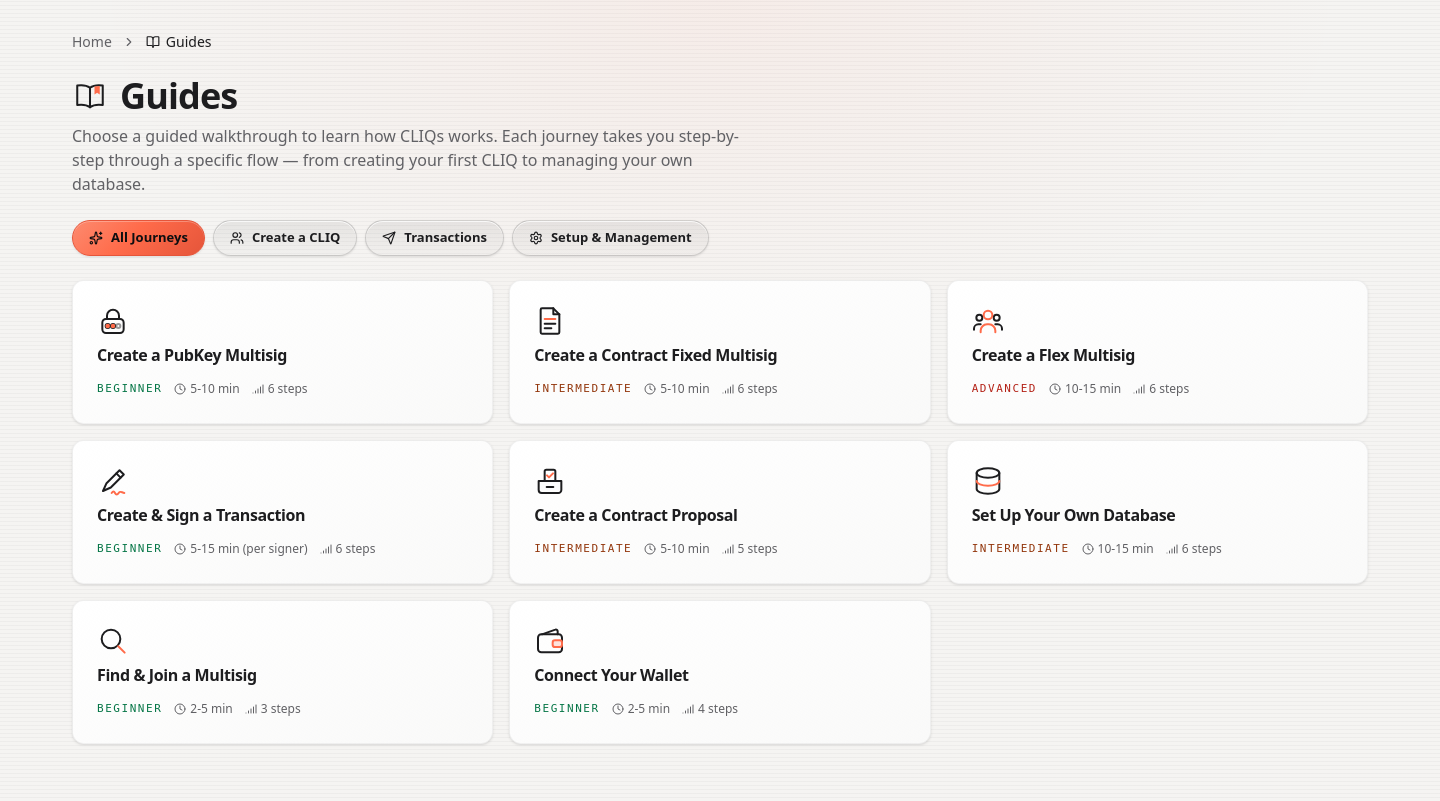
Scenario: Guides difficulty labels are status tags: P2 › in the walkthrough header
Click the button "Create a PubKey Multisig Beginner 5-10 min 6 steps" at (283, 352), box [72,280,493,424]
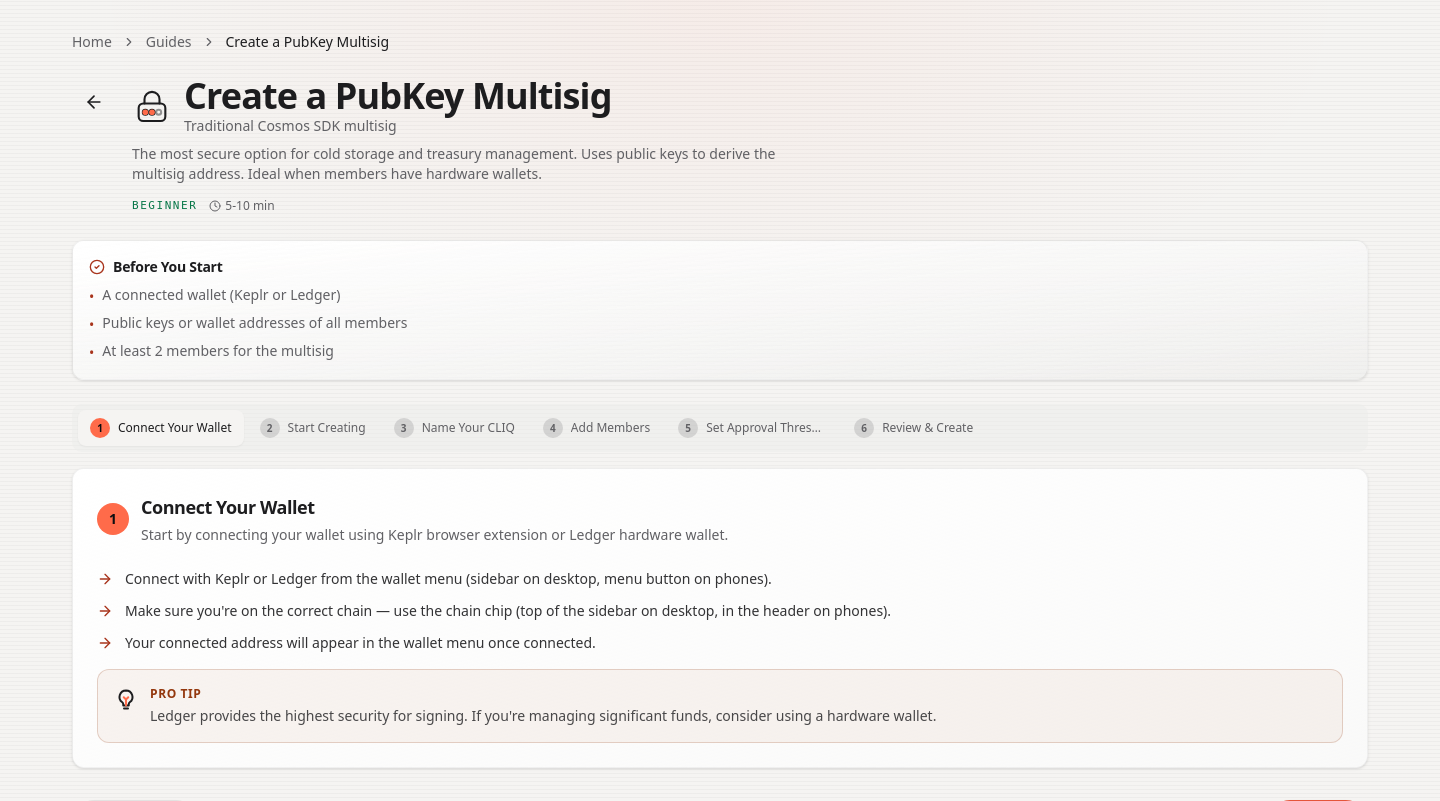
Now the text "Beginner" is shown once, box [132,196,197,216]
